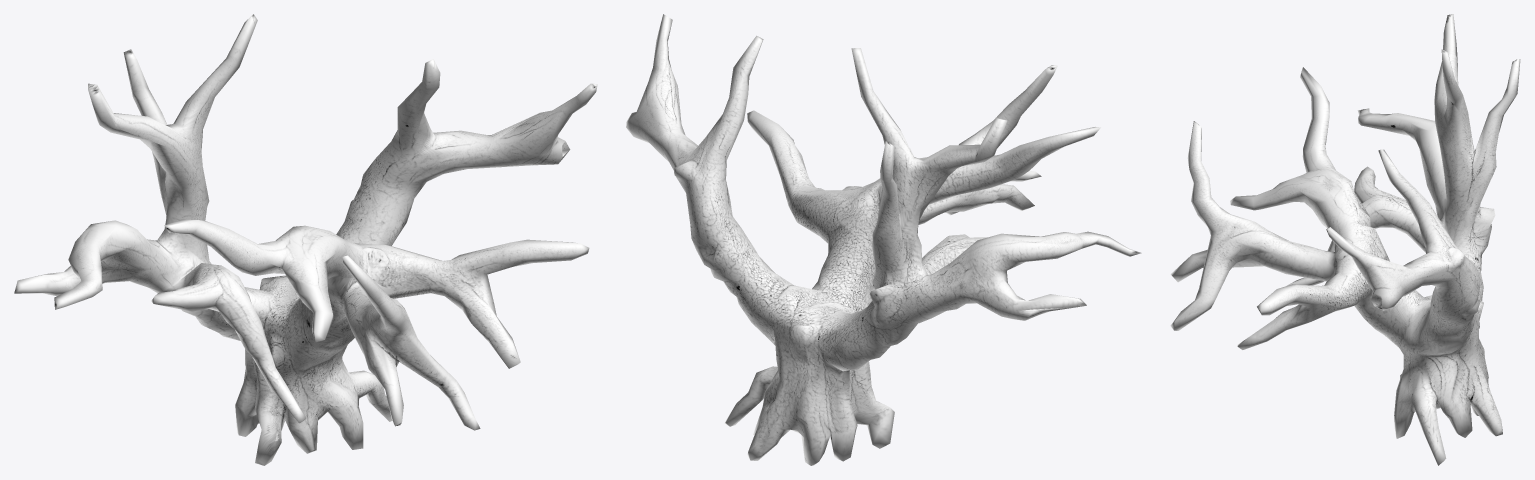
File: FigTree00.fbx
3 renders of one model, left to right at view 1: azimuth 30°, elevation 25°; view 2: azimuth 150°, elevation 25°; view 3: azimuth 270°, elevation 25°, orthographic. The views are drawn at different scales.
Parts seen in each view (by area): view 1: figtree01; view 2: figtree01; view 3: figtree01.
Boxes of the visible parts, x1,y1,x2,y2 form: figtree01: (14, 14, 597, 465); figtree01: (626, 14, 1141, 465); figtree01: (1170, 14, 1520, 465).
Size of the model in its own units: 1330 by 1043 by 923.
